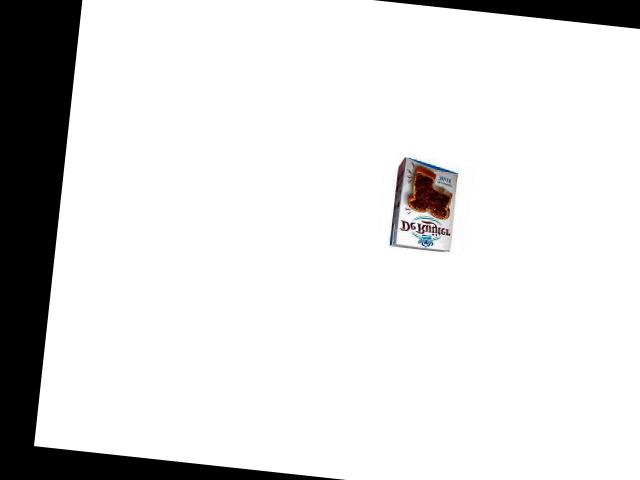chocolate: (380, 158, 467, 258)
